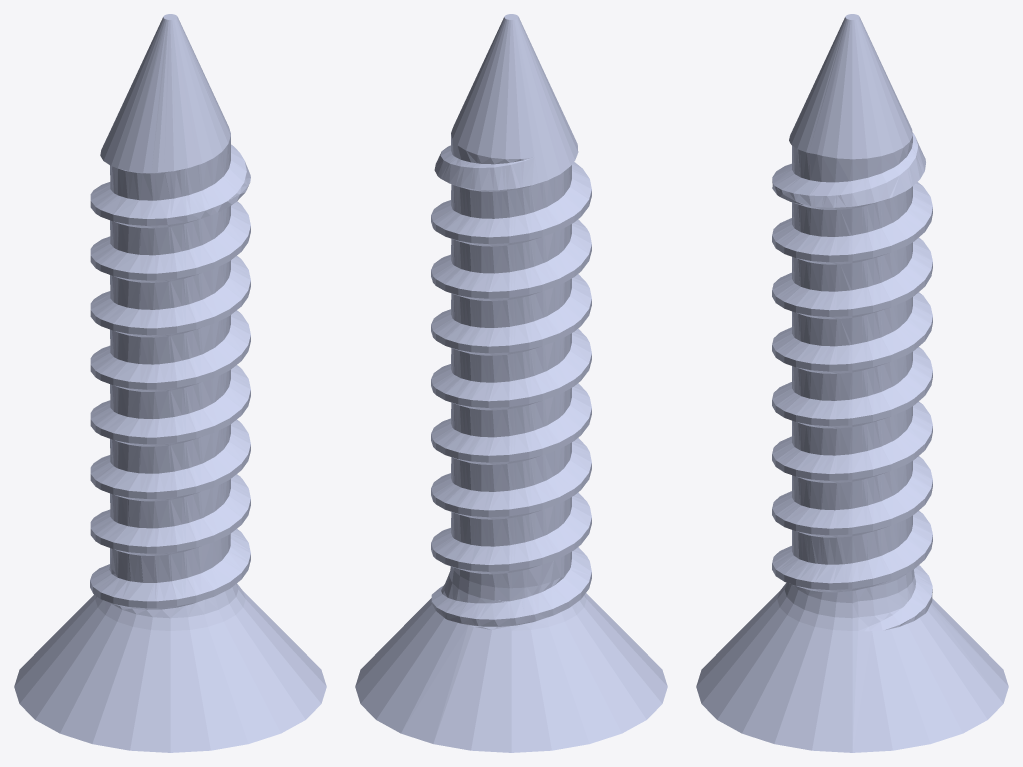
The model's file is T200_07_T200STEP_T200STEPSTEP_T200STEP1_07_T200STEP1.obj.
3 views of the same model, side by side, from view 1: azimuth 30°, elevation 25°; view 2: azimuth 150°, elevation 25°; view 3: azimuth 270°, elevation 25° (orthographic).
Size of the model in its own units: 0.0055 by 0.013 by 0.0055.
